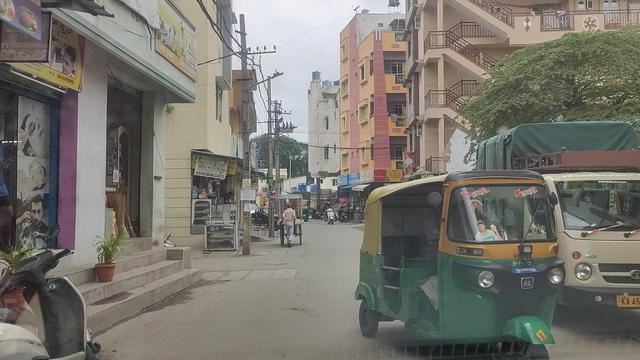LMV: (362, 178, 559, 360)
RoadDamages: (209, 261, 295, 280)
